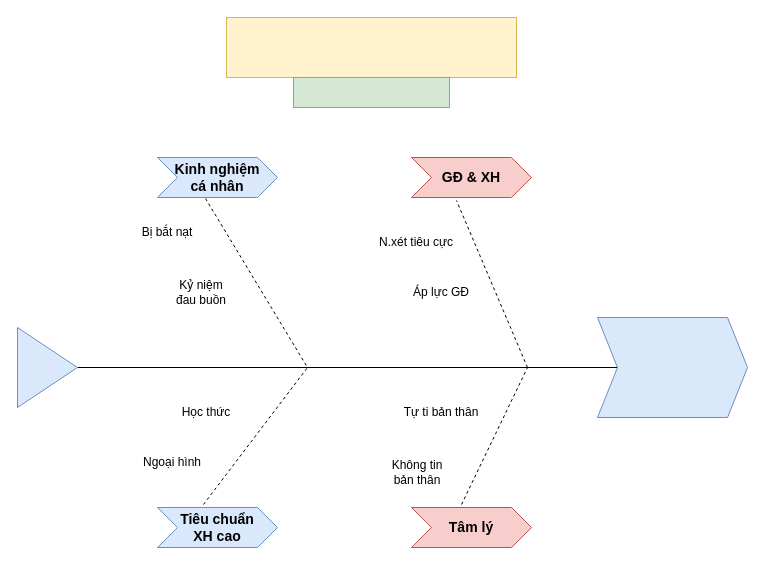
Image size: 765x565. Some labels were removed from this diagram. The centre of each missing label's shape, as x and y in pixels:
"Biểu đồ xương cá" belongs at point (371, 92).
"NGUYÊN NHÂN TỰ TI" belongs at point (371, 47).
